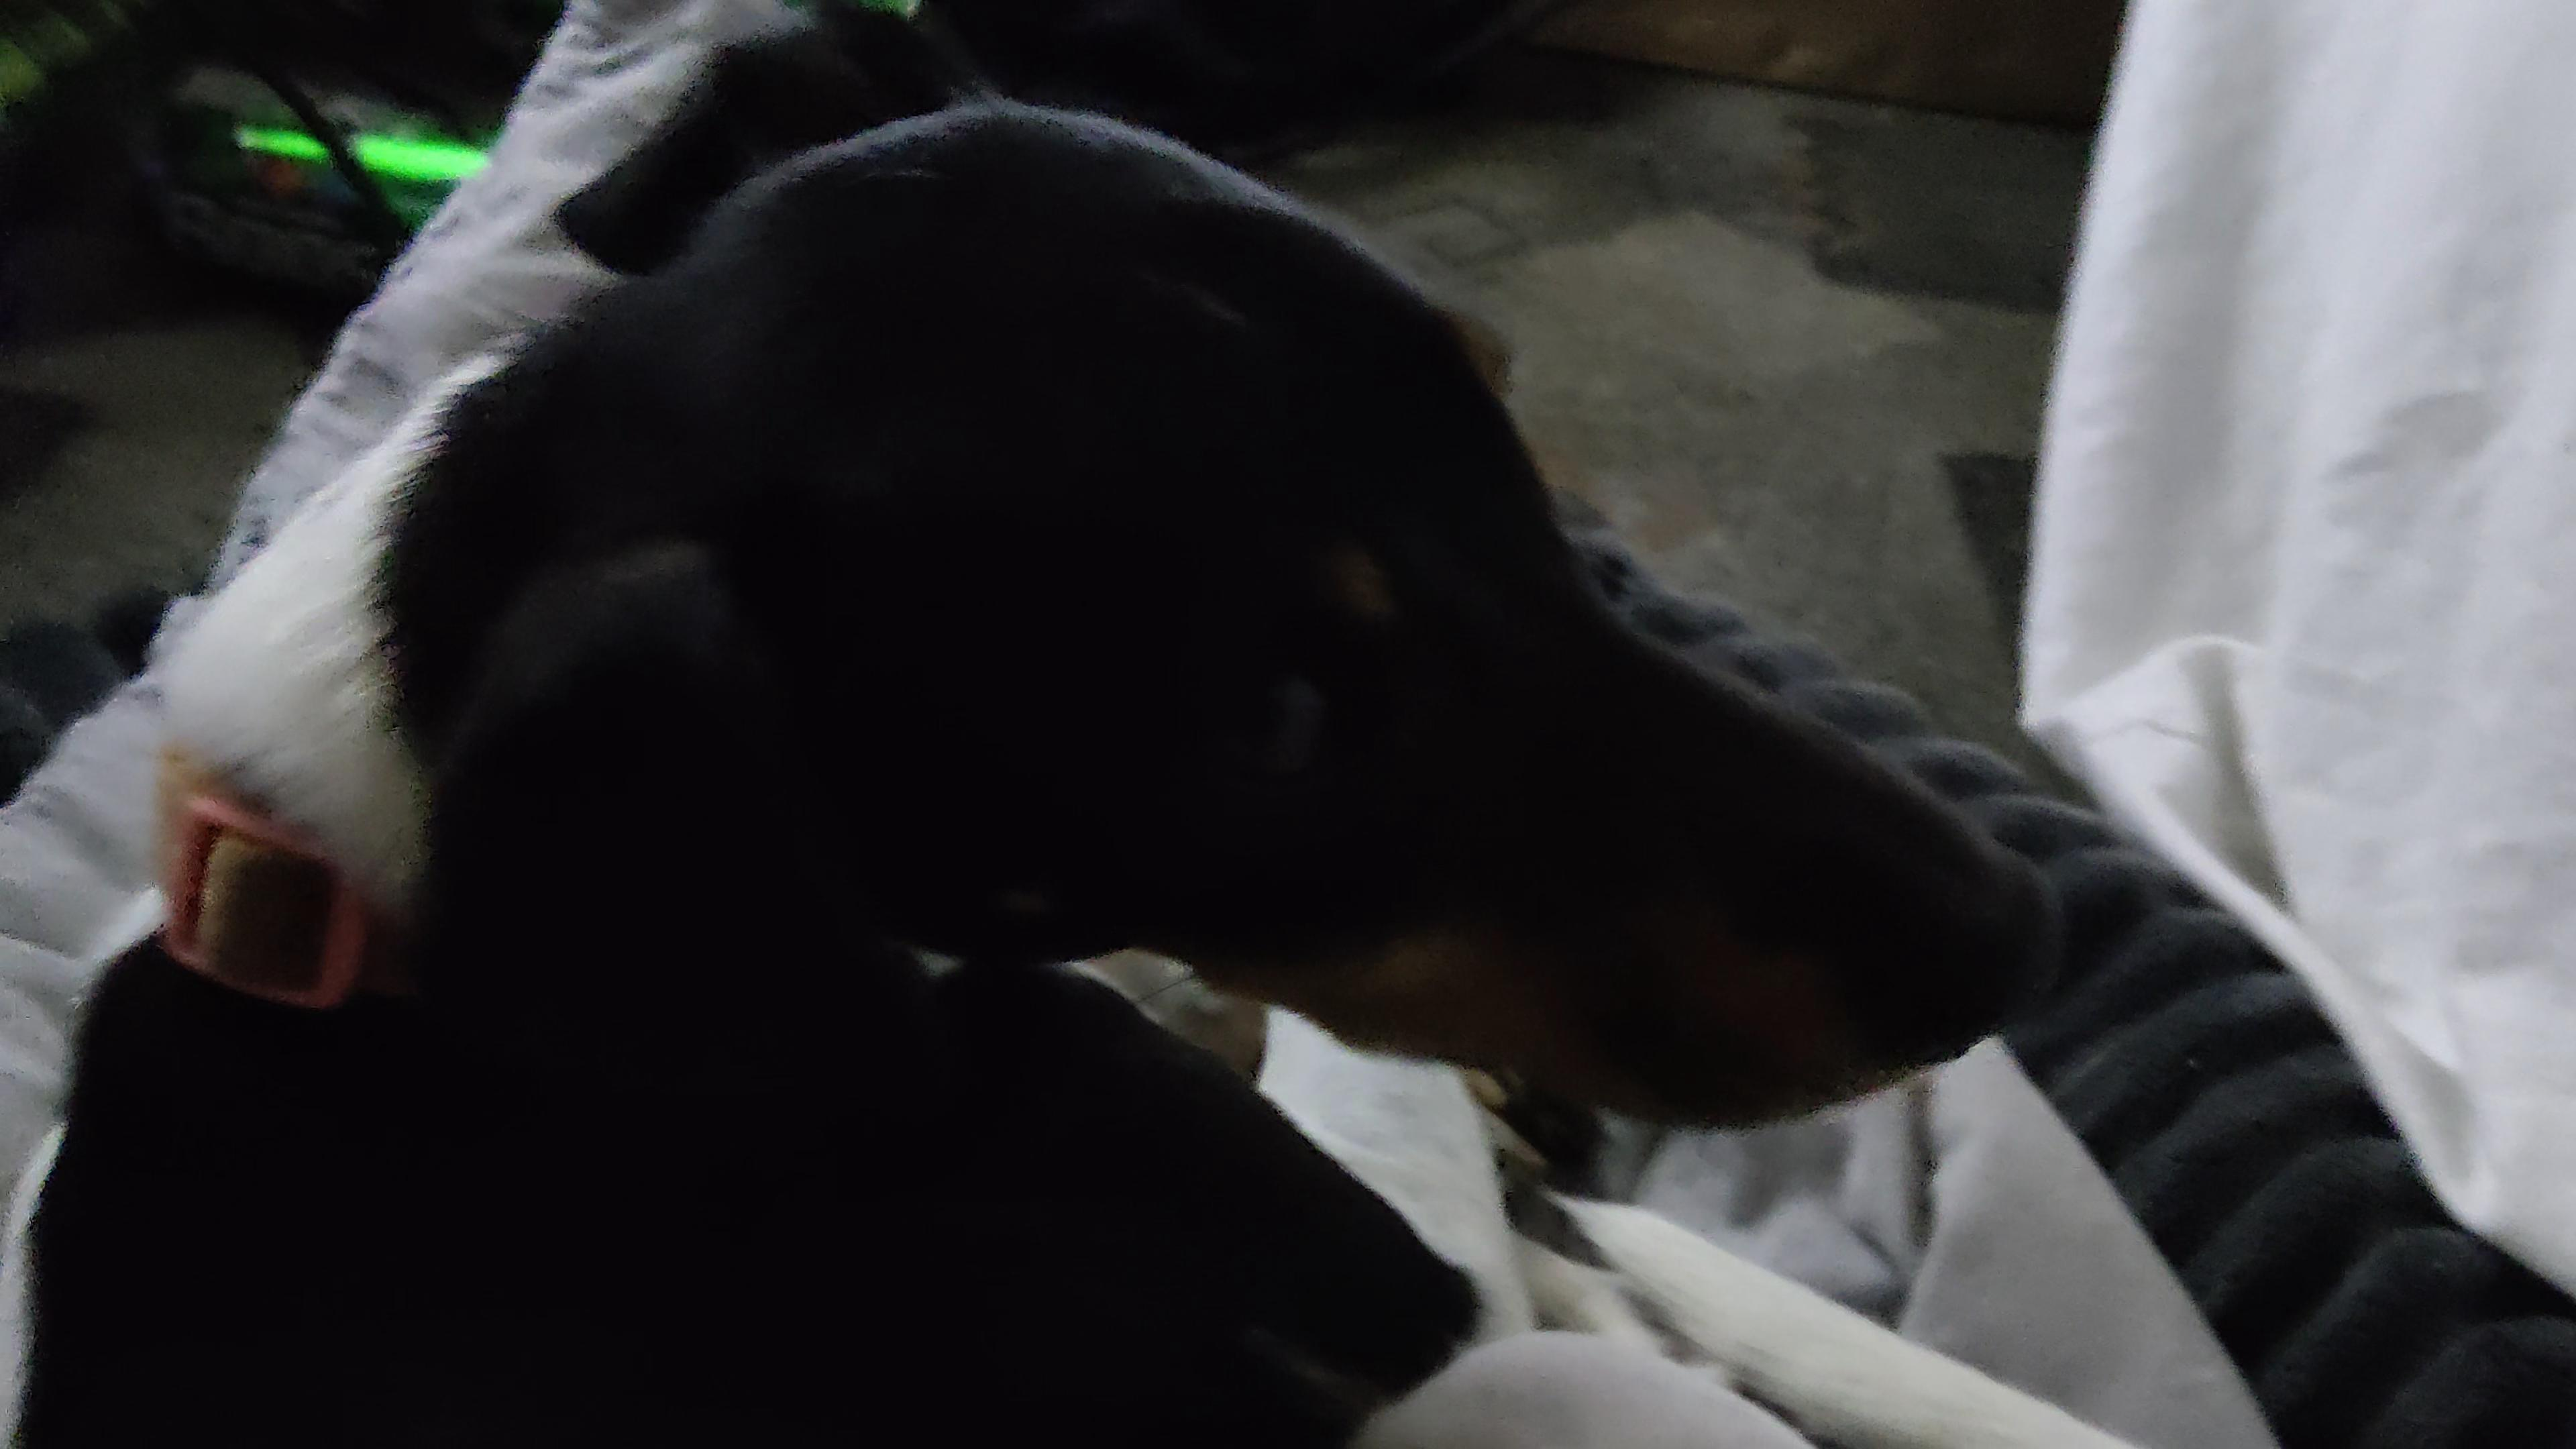Dog: (0, 9, 2233, 1449)
